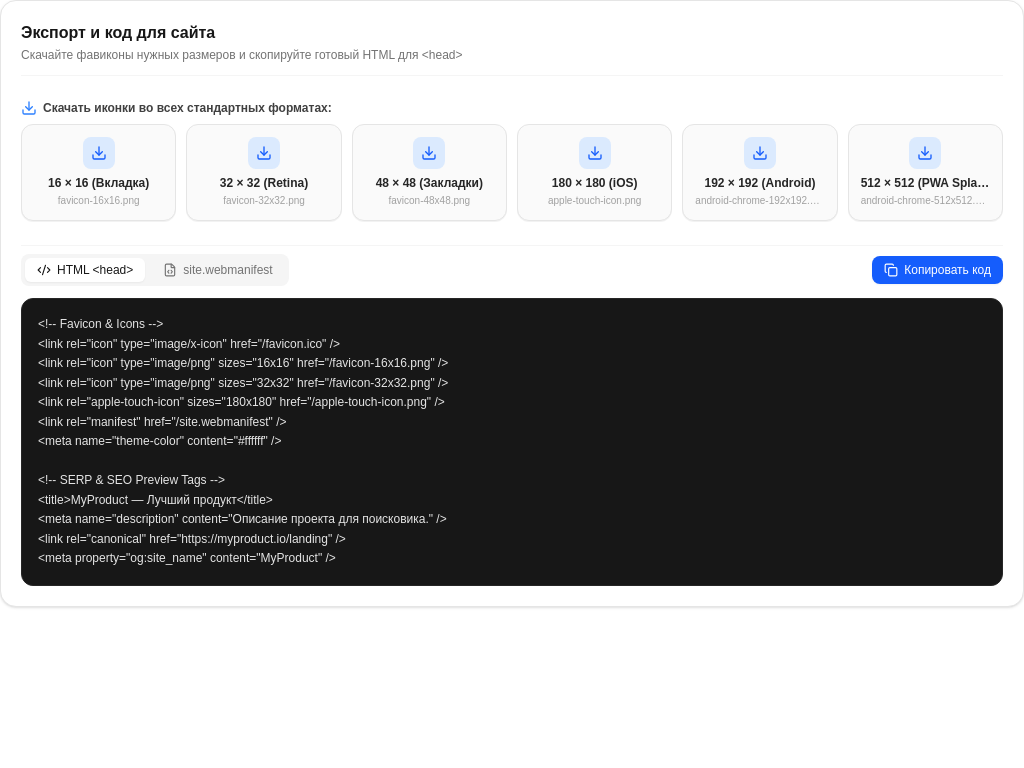
Test: ExportSection › switches to manifest tab when clicked
Step 1. Click the button "site.webmanifest" → (218, 270), box [151, 258, 285, 282]
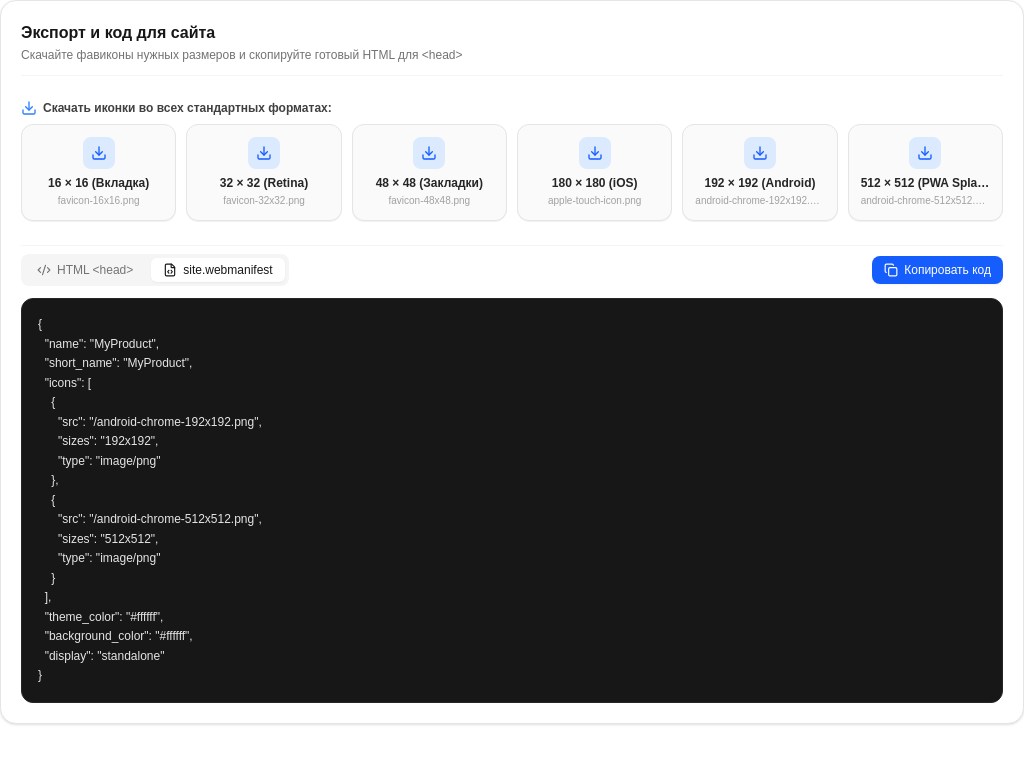
Check: the text "\"short_name\": \"MyProduct\"" is shown, box [38, 317, 262, 682]
